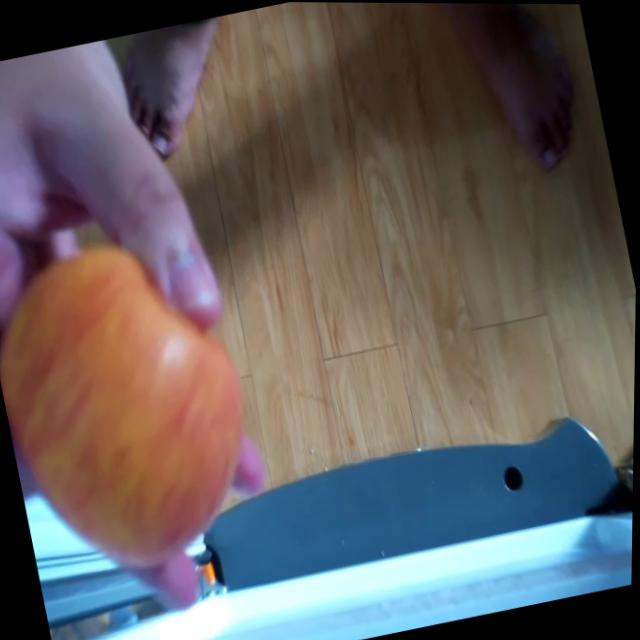apple: (0, 217, 273, 581)
